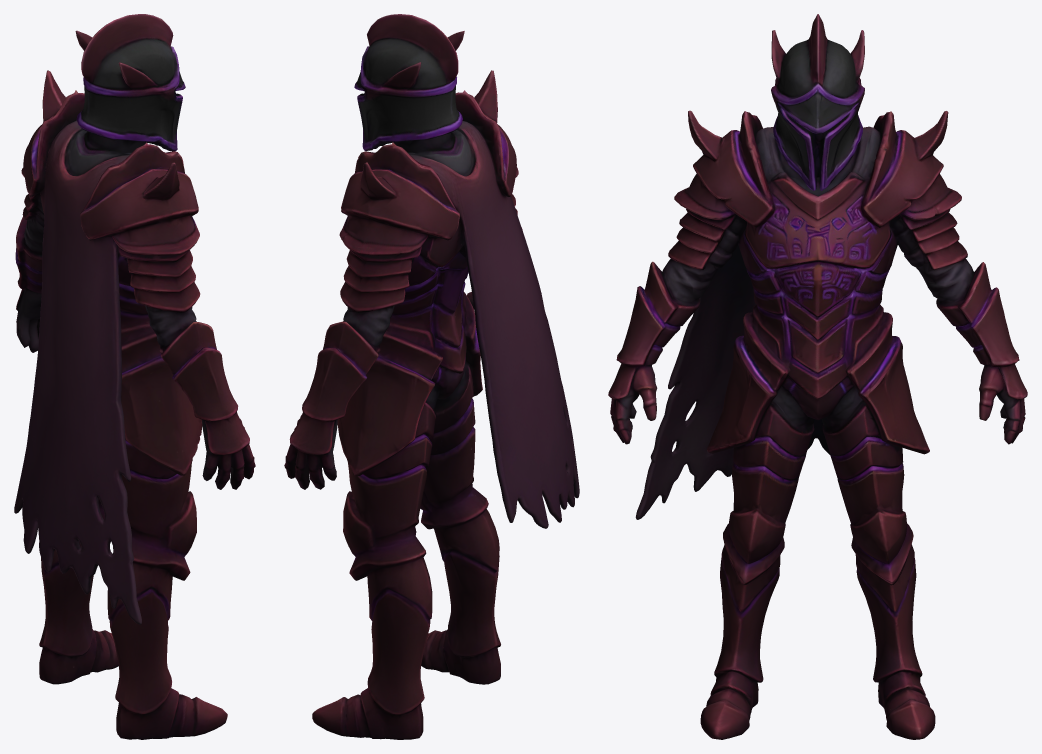
File: dreadKnight_static.glb
3 views of the same model, side by side, from view 1: azimuth 30°, elevation 25°; view 2: azimuth 150°, elevation 25°; view 3: azimuth 270°, elevation 25° (orthographic). The views are drawn at different scales.
Parts seen in each view (by area): view 1: tripo_node_9525a490-f391-4417-8b68-4eef0ccdb724; view 2: tripo_node_9525a490-f391-4417-8b68-4eef0ccdb724; view 3: tripo_node_9525a490-f391-4417-8b68-4eef0ccdb724.
Part boxes in pixels (<box>): tripo_node_9525a490-f391-4417-8b68-4eef0ccdb724: <box>14,14,255,739</box>; tripo_node_9525a490-f391-4417-8b68-4eef0ccdb724: <box>284,14,579,739</box>; tripo_node_9525a490-f391-4417-8b68-4eef0ccdb724: <box>608,14,1027,739</box>.
Size of the model in its own units: 0.2709 by 1 by 0.5448.
1 material, 1 textured.
